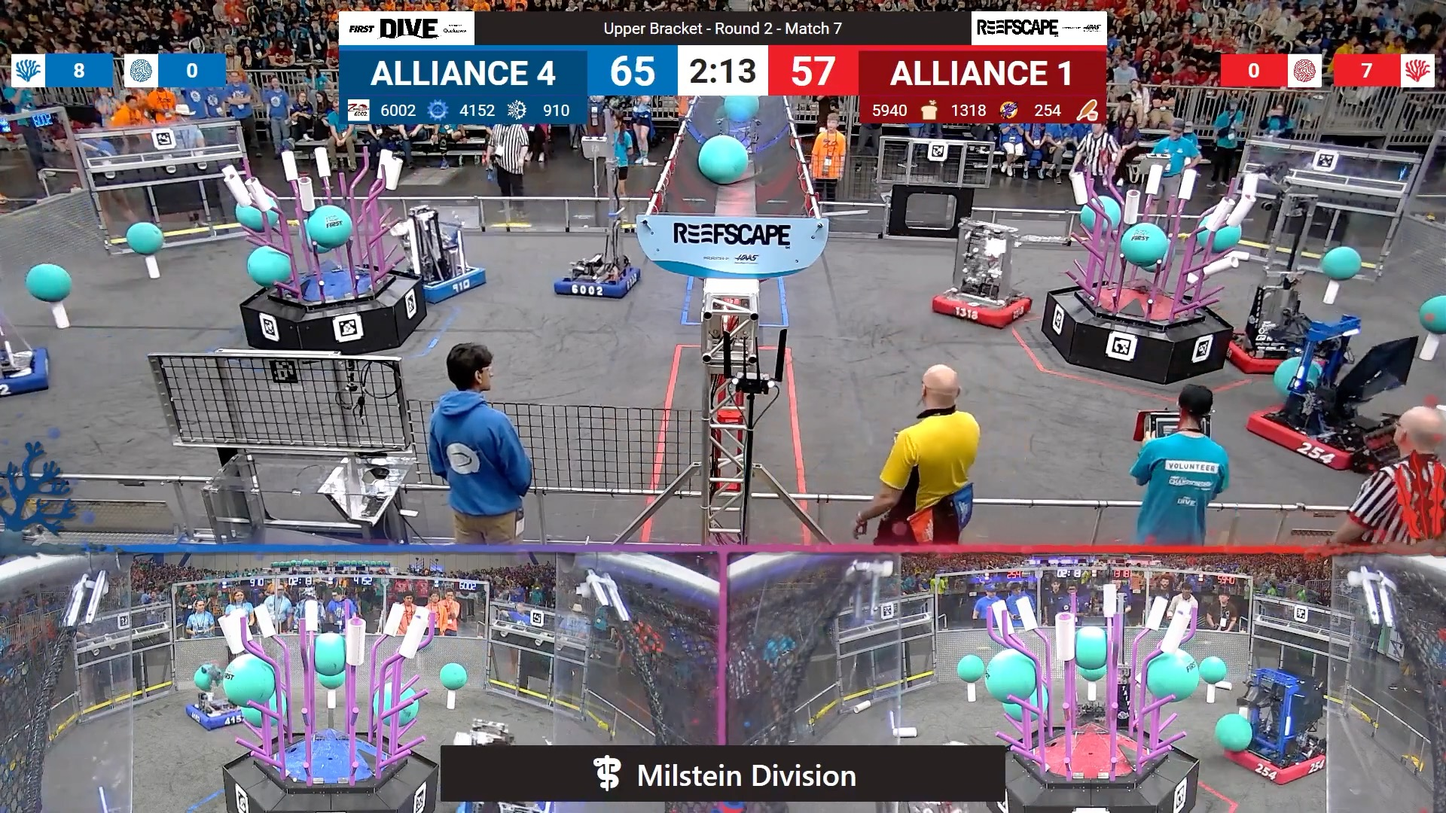bumpers: (1240, 399, 1399, 477), (1220, 323, 1344, 378), (929, 284, 1036, 334), (1223, 740, 1333, 786), (389, 261, 490, 304), (552, 261, 645, 300), (0, 344, 59, 403), (178, 697, 255, 733)
